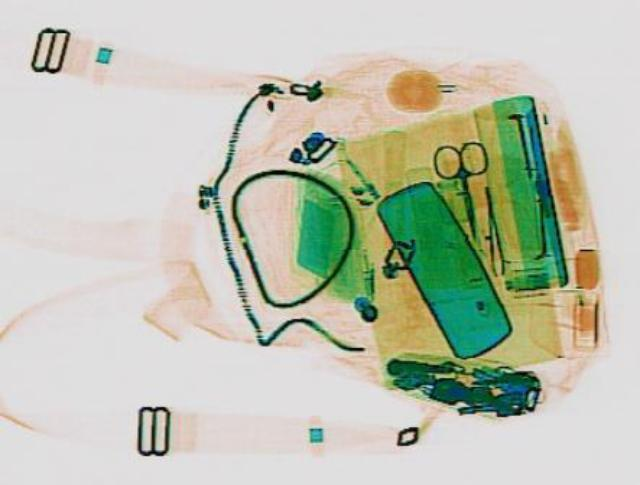Scissors: (427, 139, 501, 239)
